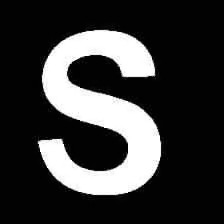LTR_S: (27, 20, 172, 201)
